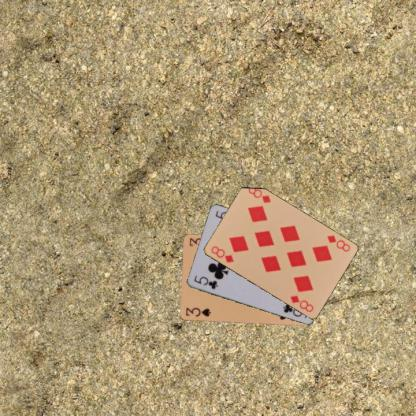3s: (183, 305, 212, 318)
5c: (191, 272, 219, 290)
8d: (208, 243, 235, 264), (324, 232, 351, 253)
